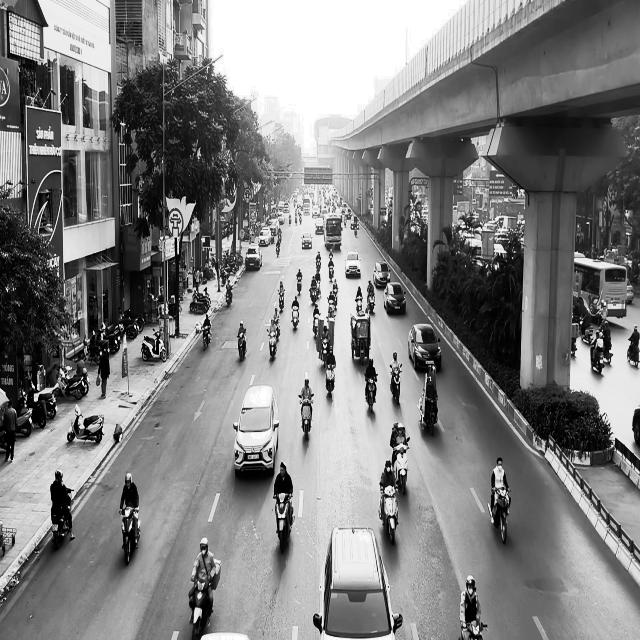bus: (573, 253, 627, 321)
car: (312, 526, 402, 640), (233, 384, 279, 476), (408, 323, 442, 372), (383, 282, 406, 315), (244, 245, 262, 270), (344, 250, 360, 277), (373, 262, 390, 287), (302, 231, 312, 249)
motorbike: (188, 576, 214, 639), (67, 403, 104, 444), (487, 485, 511, 544), (51, 488, 74, 549), (378, 483, 399, 545), (119, 506, 141, 565), (273, 492, 294, 552), (391, 439, 410, 494), (141, 329, 167, 361), (298, 394, 313, 440), (459, 620, 488, 640), (389, 363, 402, 404), (364, 374, 377, 412), (590, 340, 604, 374), (627, 337, 639, 368), (266, 328, 277, 359), (325, 363, 335, 395), (200, 324, 212, 350), (237, 330, 247, 361), (318, 339, 328, 367), (366, 291, 375, 313), (327, 296, 336, 318), (291, 305, 299, 329), (277, 288, 285, 312), (354, 295, 362, 314), (274, 318, 280, 340), (296, 277, 302, 294), (328, 264, 334, 281)
